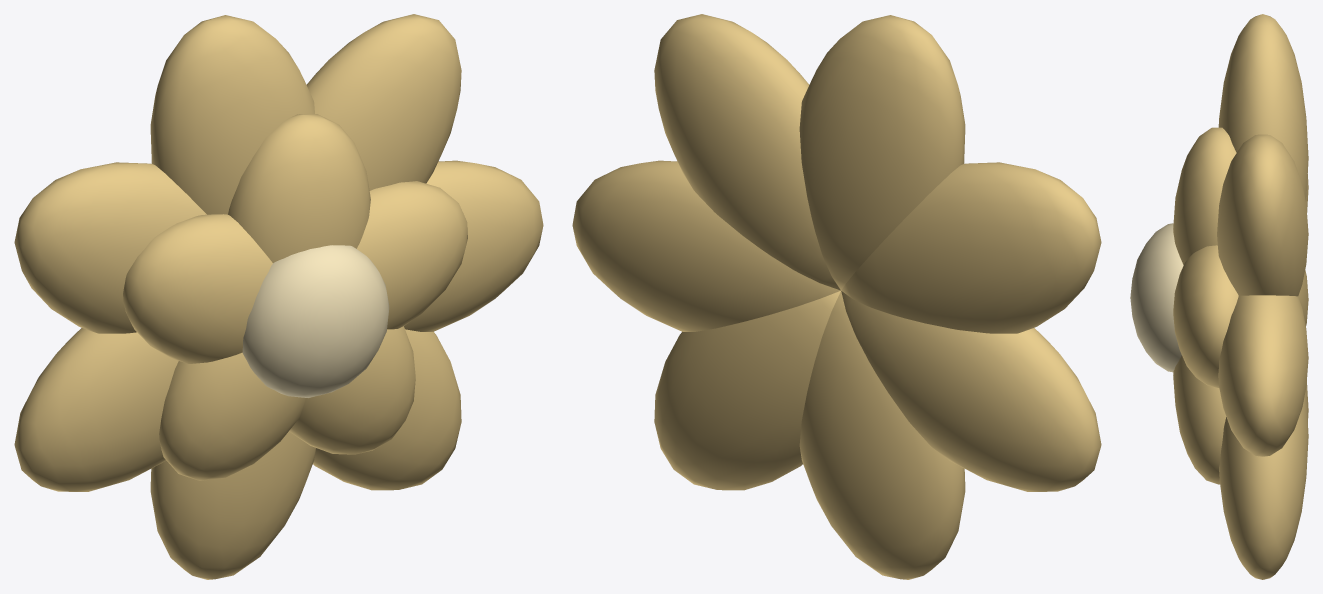
File: gold-blossom.glb
The picture shows the model from 3 angles, left to right: view 1: azimuth 30°, elevation 25°; view 2: azimuth 150°, elevation 25°; view 3: azimuth 270°, elevation 25°; orthographic projection. The views are drawn at different scales.
Visible parts, largest first — view 1: petals-0, heart-1; view 2: petals-0; view 3: petals-0, heart-1.
Boxes of the visible parts, x1=… form: petals-0: x1=14, y1=14, x2=543, y2=579; heart-1: x1=242, y1=245, x2=389, y2=397; petals-0: x1=572, y1=14, x2=1101, y2=579; petals-0: x1=1173, y1=14, x2=1308, y2=579; heart-1: x1=1130, y1=223, x2=1183, y2=372.
Bounding box in the file's own units: 0.545 × 0.5557 × 0.175.
